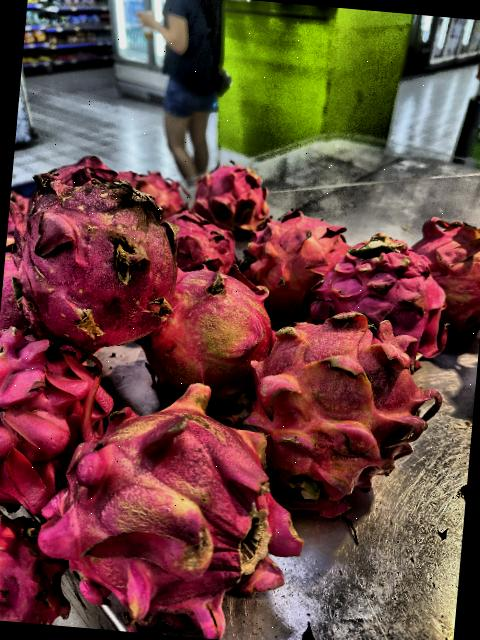buah-naga-belum-matang: (36, 368, 294, 614), (253, 295, 453, 497), (142, 261, 272, 383), (237, 204, 364, 316), (400, 211, 480, 336)
buah-naga-matang: (27, 178, 192, 344), (318, 229, 456, 360), (0, 329, 103, 496), (0, 513, 82, 626), (184, 158, 274, 228), (163, 210, 249, 268), (121, 163, 180, 210)
